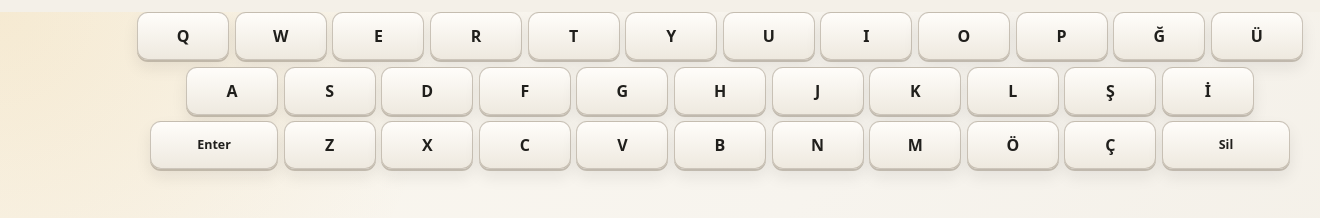
Test: VirtualKeyboard › handles letter presses on pointer down and shows tactile feedback
This screenshot has width=1320, height=218.
Press the mouse on the button named "D harfi" at x=427, y=91, box left=381, top=67, right=473, bottom=115
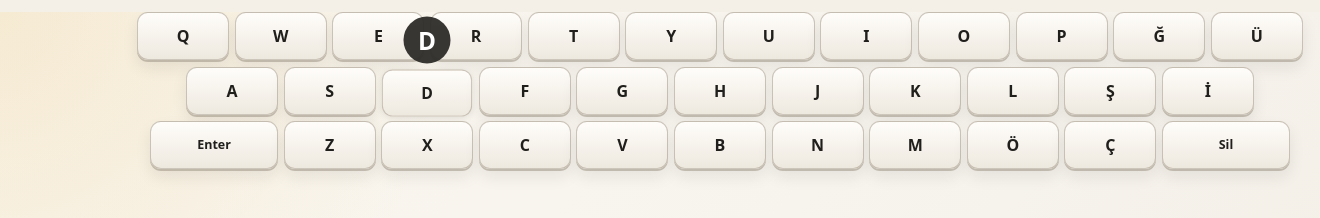
Expected: the text "D" is shown, left=404, top=17, right=451, bottom=64
